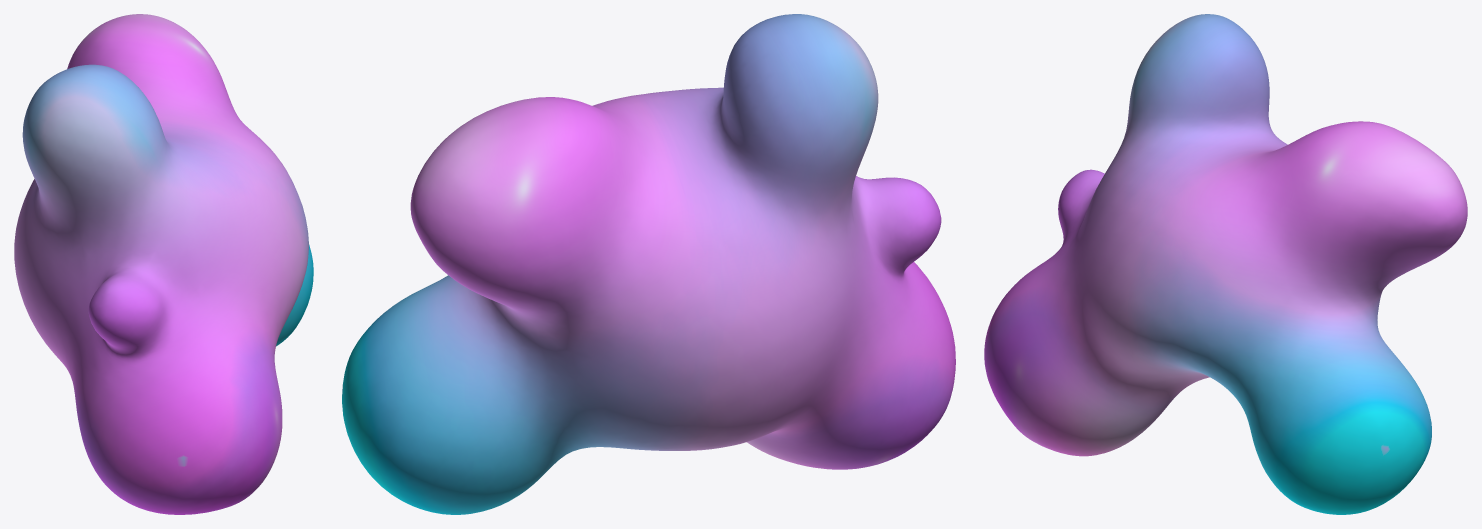
The model's file is anxiety.glb.
3 views of the same model, side by side, from view 1: azimuth 30°, elevation 25°; view 2: azimuth 150°, elevation 25°; view 3: azimuth 270°, elevation 25° (orthographic). The views are drawn at different scales.
Parts seen in each view (by area): view 1: anxiety; view 2: anxiety; view 3: anxiety.
Part boxes in pixels (x1,y1,x2,y2): anxiety: [14, 14, 313, 514]; anxiety: [342, 14, 955, 514]; anxiety: [984, 14, 1467, 514].
Size of the model in its own units: 387 by 437 by 478.
1 material, 1 textured.
